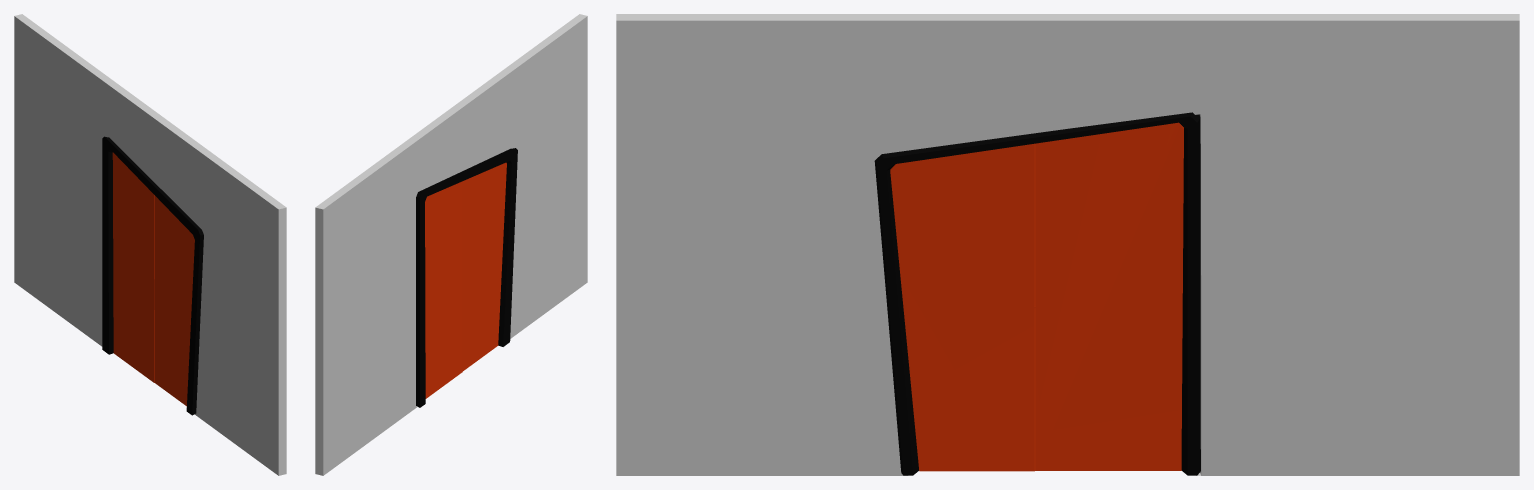
The model's file is Race_door.fbx.
3 renders of one model, left to right at view 1: azimuth 30°, elevation 25°; view 2: azimuth 150°, elevation 25°; view 3: azimuth 270°, elevation 25°, orthographic. The views are drawn at different scales.
Parts seen in each view (by area): view 1: Cube.003, hospital_scene.011, hospital_scene.010; view 2: Cube.003, hospital_scene.010, hospital_scene.011; view 3: Cube.003, hospital_scene.011, hospital_scene.010.
Part boxes in pixels (left/top/right/bottom): Cube.003: left=14, top=14, right=286, bottom=475; hospital_scene.011: left=112, top=152, right=154, bottom=382; hospital_scene.010: left=154, top=195, right=194, bottom=406; Cube.003: left=315, top=14, right=587, bottom=475; hospital_scene.010: left=462, top=162, right=506, bottom=371; hospital_scene.011: left=425, top=181, right=462, bottom=398; Cube.003: left=616, top=14, right=1519, bottom=475; hospital_scene.011: left=1035, top=122, right=1183, bottom=470; hospital_scene.010: left=890, top=143, right=1035, bottom=471.
Size of the model in its own units: 17.66 by 300 by 540.
